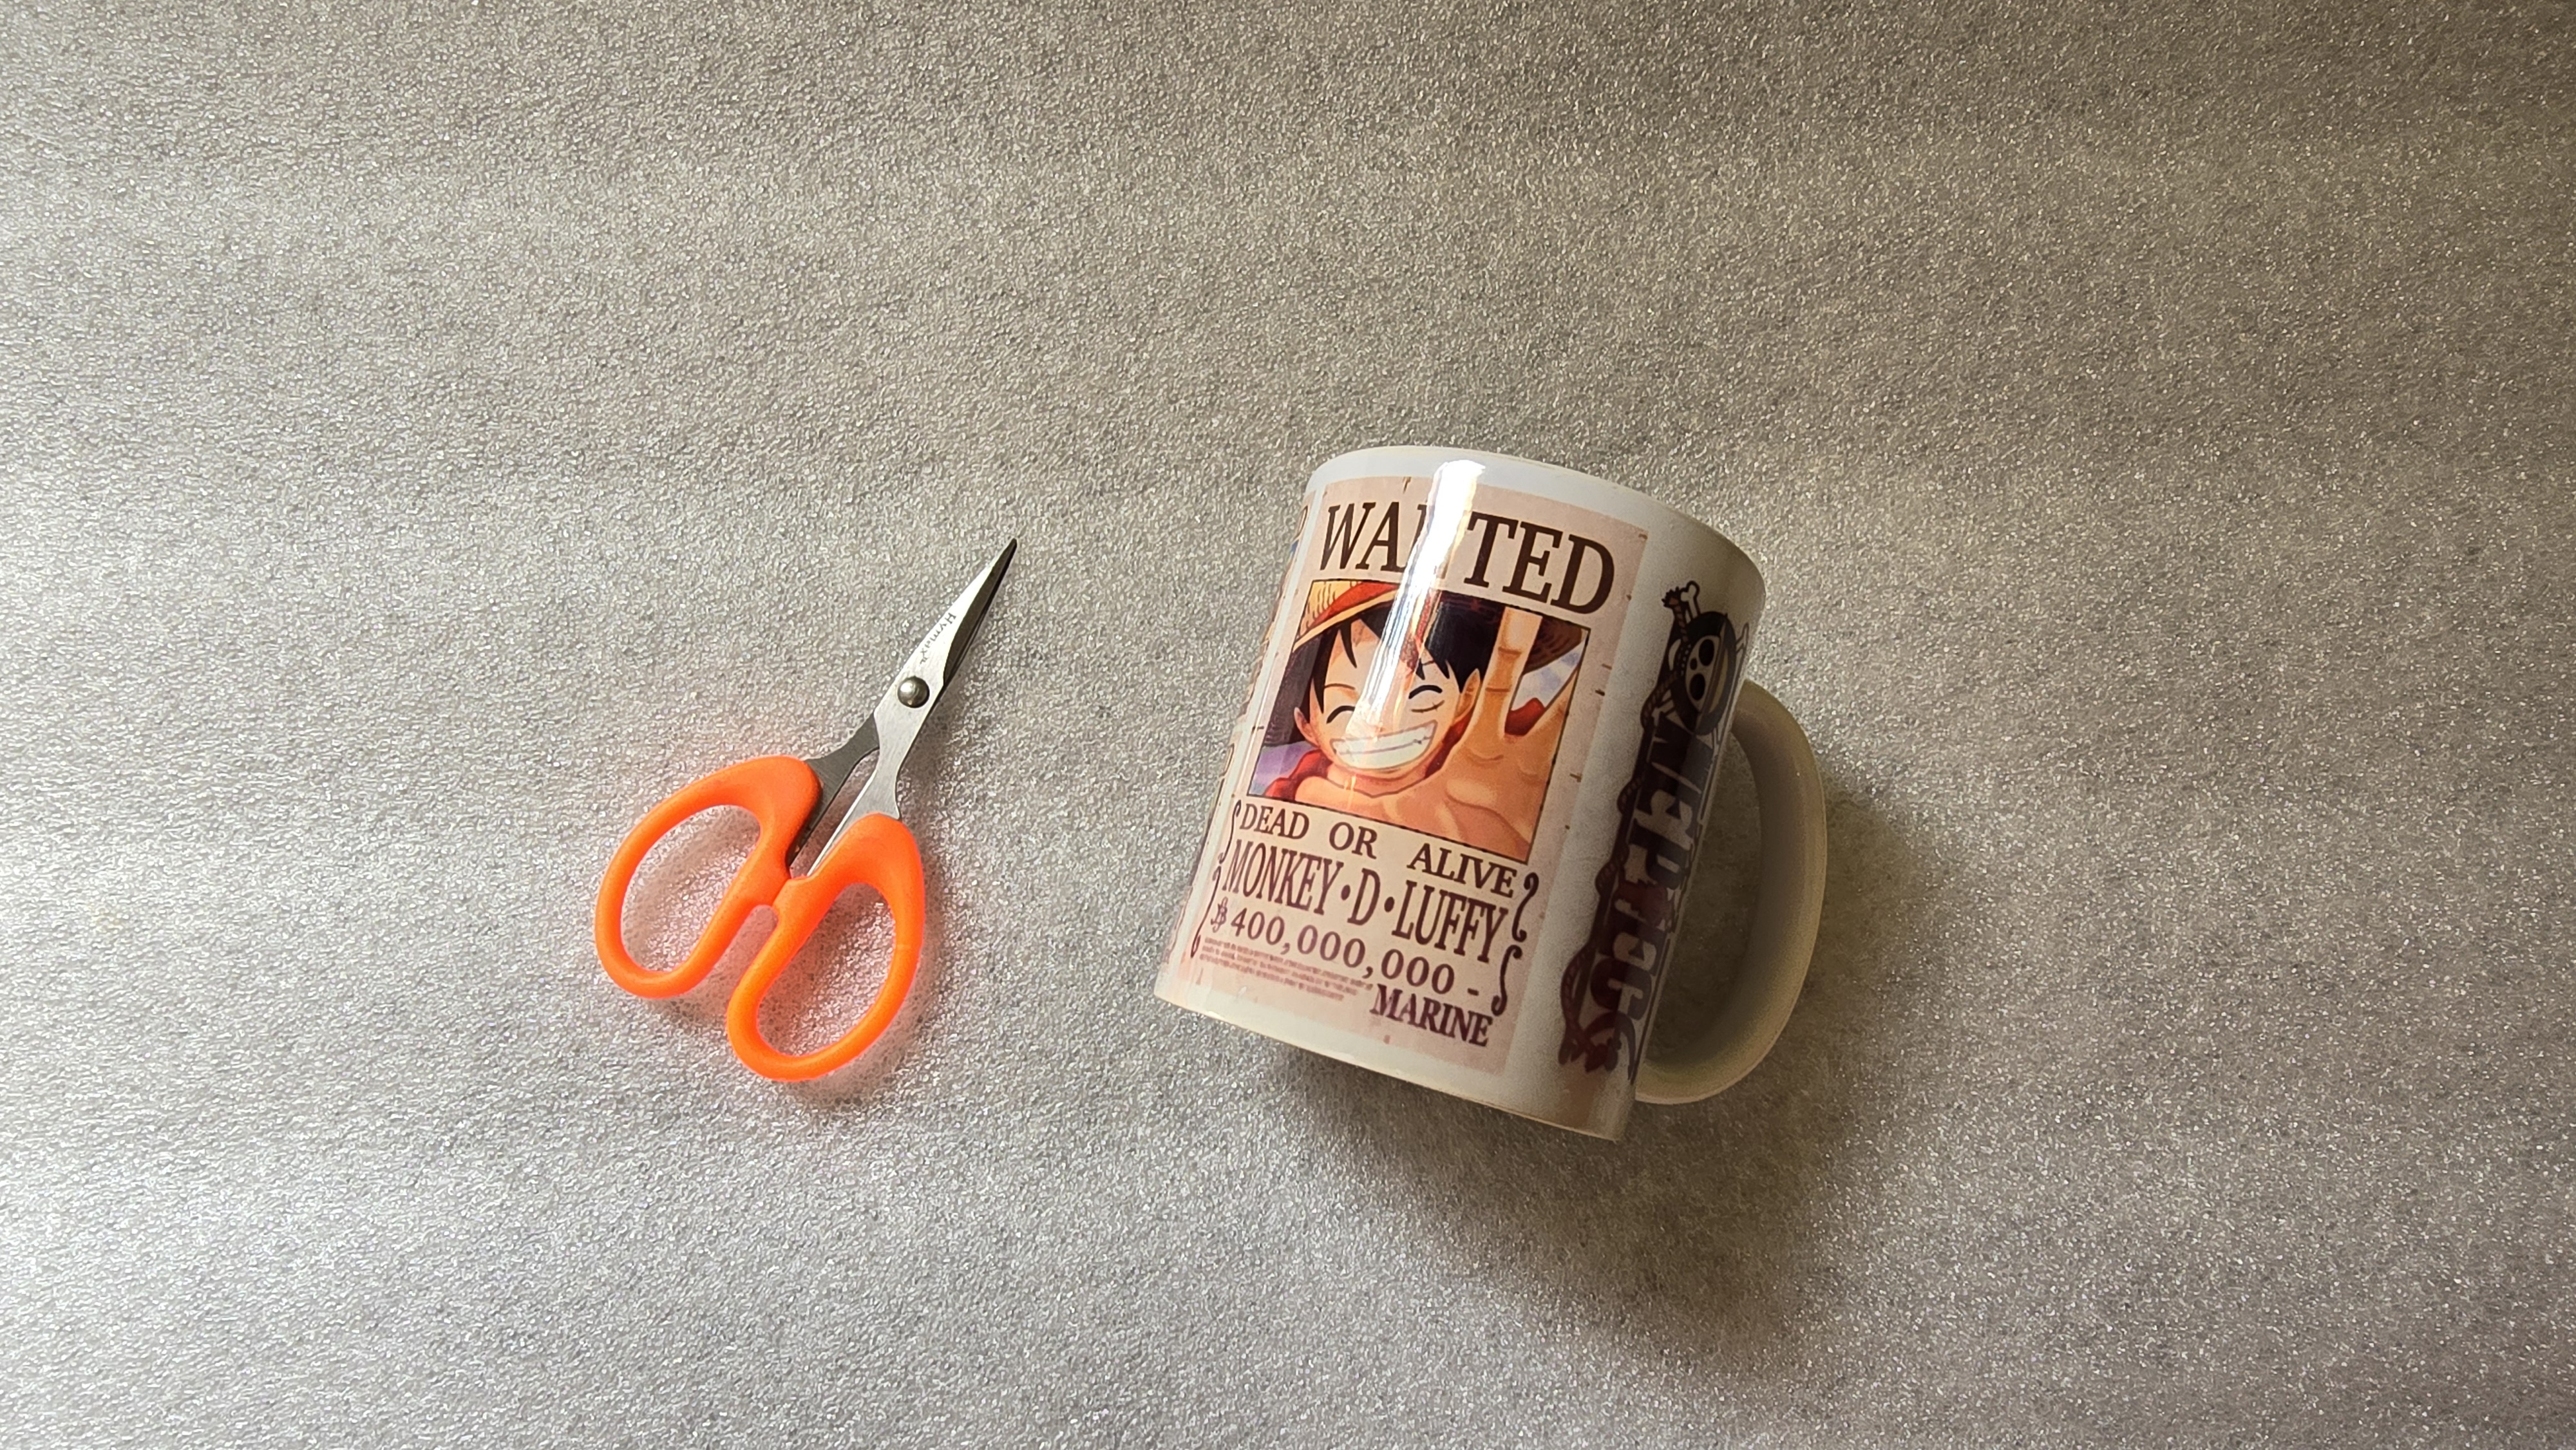mug: (1145, 421, 1851, 1178)
